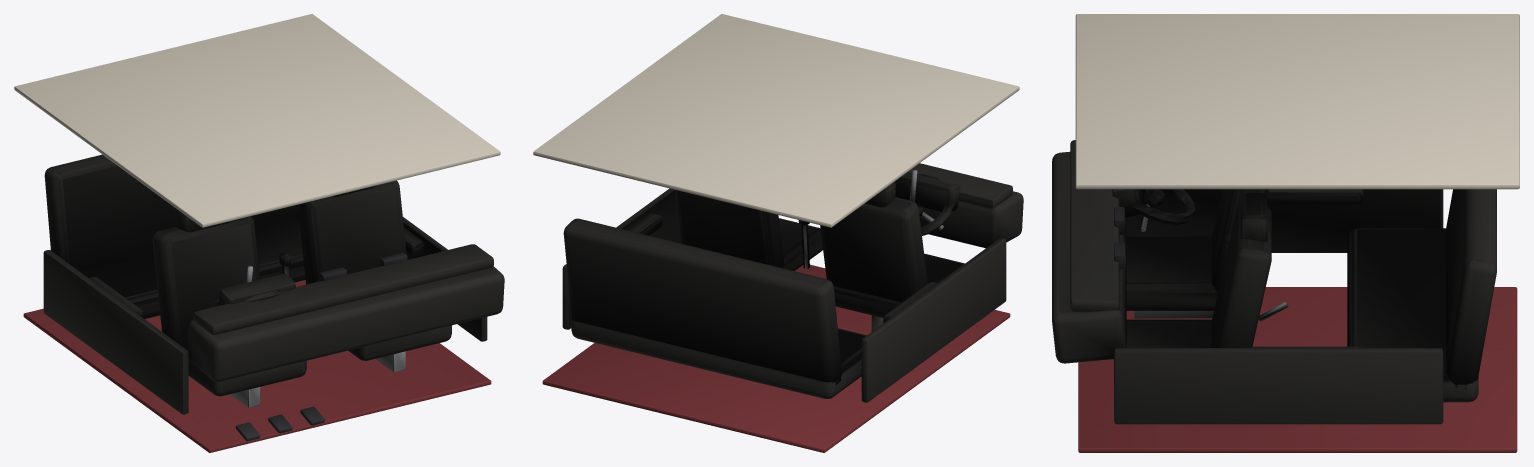
Rendered from interior_cabin.glb.
3 renders of one model, left to right at view 1: azimuth 30°, elevation 25°; view 2: azimuth 150°, elevation 25°; view 3: azimuth 270°, elevation 25°, orthographic. The views are drawn at different scales.
Visible parts, largest first — view 1: headliner, carpet, dash, bench_squab, door_card_l, seat_fl_squab, dash_top, seat_fr_squab, bench_cushion, seat_fl_cushion, seat_fr_cushion, binnacle (+1 smaller); view 2: headliner, bench_squab, carpet, door_card_l, seat_fl_squab, bench_cushion, seat_fr_squab, dash, door_card_r, seat_fl_cushion, dash_top, binnacle (+2 smaller); view 3: headliner, carpet, door_card_r, bench_cushion, door_card_l, bench_squab, dash, seat_fl_cushion, dash_top, seat_fr_squab, seat_fr_cushion, seat_fl_squab (+5 smaller).
Part boxes in pixels (x1,y1,x2,y2): headliner: (14,14,500,227); carpet: (23,280,491,452); dash: (187,266,504,381); bench_squab: (44,154,299,271); door_card_l: (43,250,188,414); seat_fl_squab: (152,216,260,345); dash_top: (193,244,493,334); seat_fr_squab: (298,180,406,284); bench_cushion: (80,218,305,318); seat_fl_cushion: (181,343,306,396); seat_fr_cushion: (348,325,451,360); binnacle: (218,274,295,305); headliner: (533,14,1019,227); bench_squab: (563,218,841,385); carpet: (542,264,1010,452); door_card_l: (861,238,1006,402); seat_fl_squab: (820,197,927,302); bench_cushion: (571,319,866,398); seat_fr_squab: (675,190,783,268); dash: (919,191,1023,248); door_card_r: (562,188,681,329); seat_fl_cushion: (833,253,964,317); dash_top: (908,163,1012,207); binnacle: (895,172,960,211); headliner: (1075,14,1519,189); carpet: (1078,287,1517,452); door_card_r: (1114,348,1443,424); bench_cushion: (1347,228,1478,402); door_card_l: (1126,189,1443,252); bench_squab: (1446,189,1496,389); dash: (1052,151,1126,363); seat_fl_cushion: (1126,236,1217,310); dash_top: (1070,140,1119,311); seat_fr_squab: (1211,204,1271,347); seat_fr_cushion: (1126,319,1211,347); seat_fl_squab: (1211,189,1268,291).
Size of the model in its own units: 1.51 by 1.1 by 1.71.
